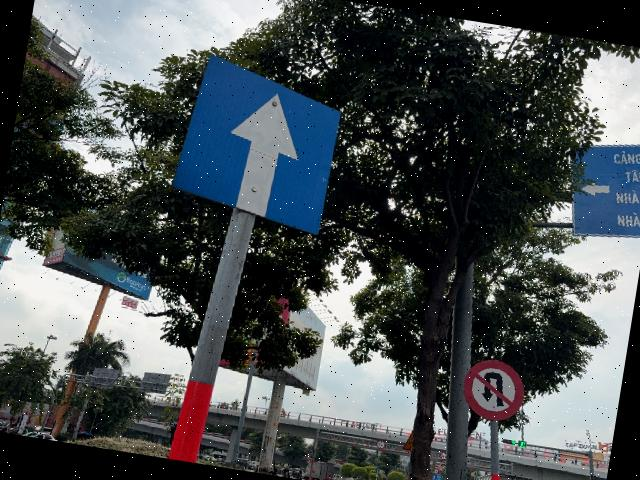cam-quay-dau-xe: (458, 355, 528, 425)
duong-mot-chieu: (166, 51, 346, 236)
